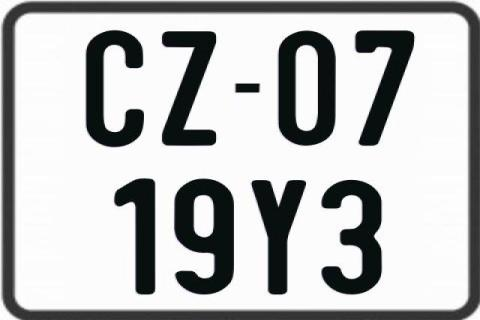0: (321, 178, 387, 294), (275, 29, 338, 145), (354, 28, 413, 146), (171, 178, 231, 294), (113, 179, 156, 299)
C: (86, 29, 146, 149)
Y: (249, 177, 310, 293)
Z: (161, 31, 219, 149)
